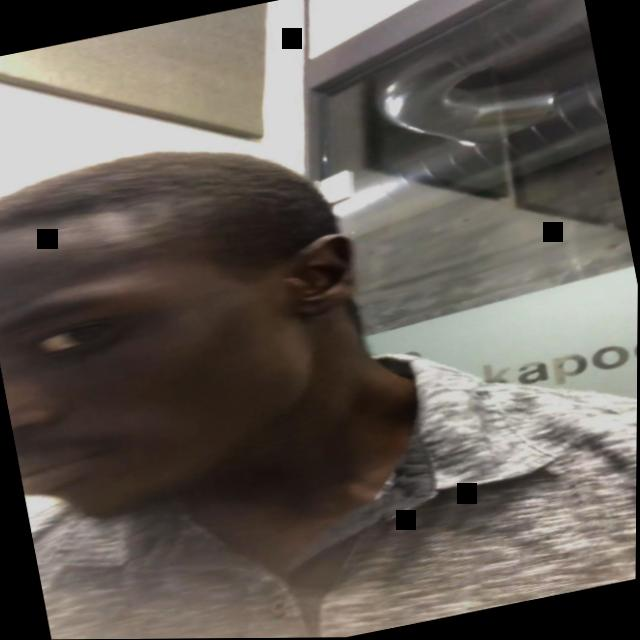NO-Mask: (0, 184, 325, 540)
